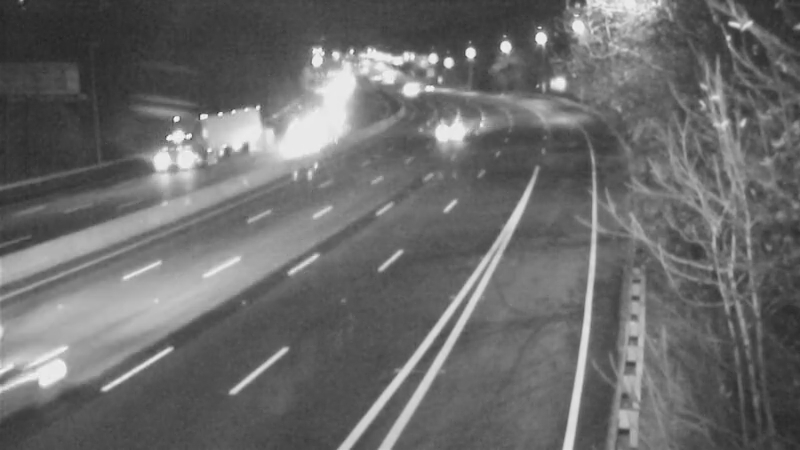vehicle: (1, 324, 100, 434), (131, 113, 211, 193), (383, 65, 433, 115), (430, 101, 480, 151), (274, 119, 324, 169)
